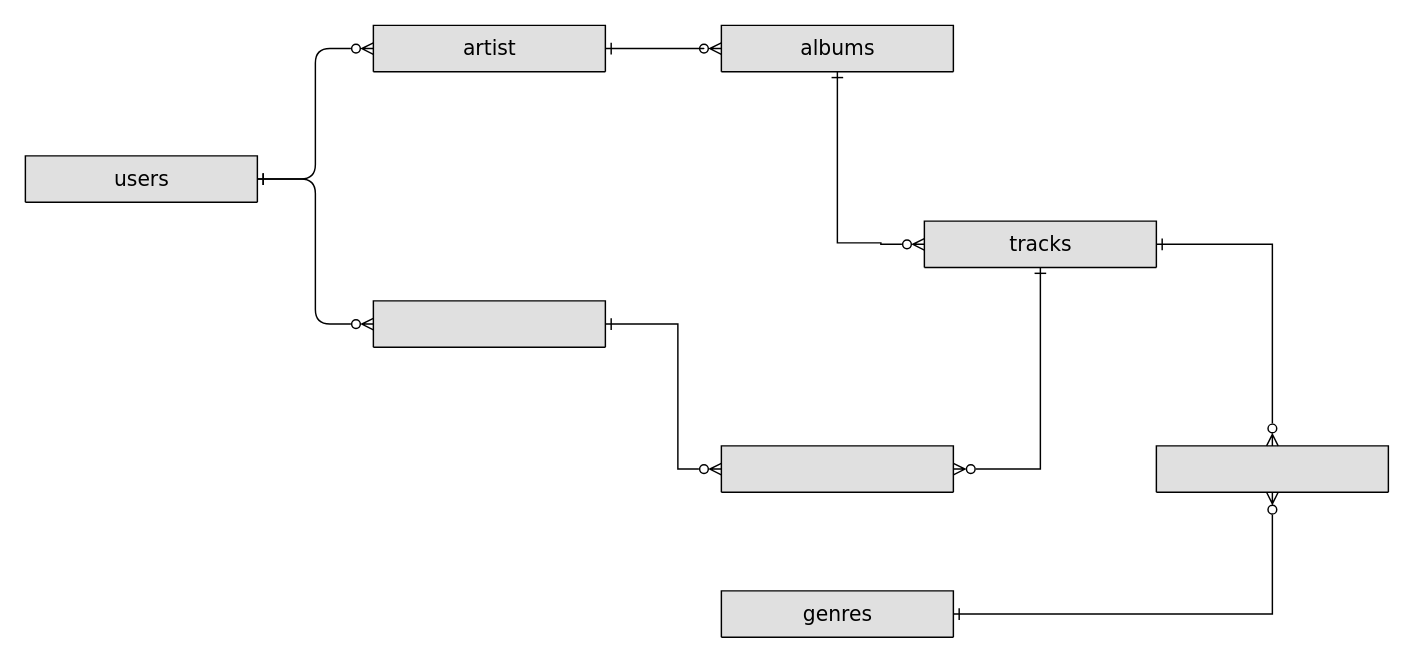
This 1414x663 diagram has some shape labels left out. The box of each missing label's shape, as (x1, y1, x2, y2) in pixels:
playlists: (372, 299, 605, 347)
playlists_tracks: (720, 444, 953, 492)
tracks_genres: (1155, 444, 1388, 492)
